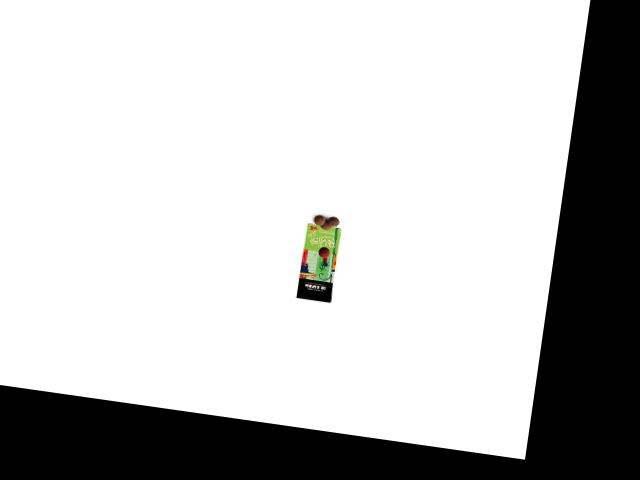chocolate: (290, 221, 350, 307)
